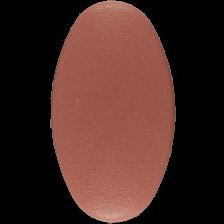0093-7441: (0, 0, 224, 224)
